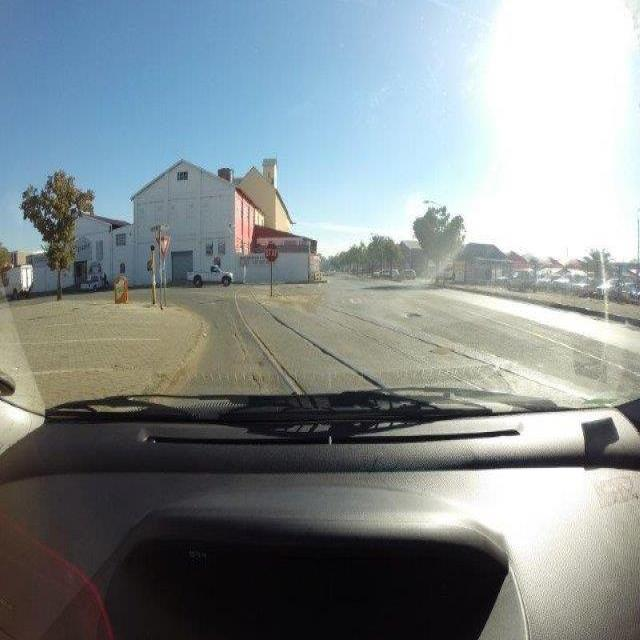lubang: (403, 307, 426, 317)
